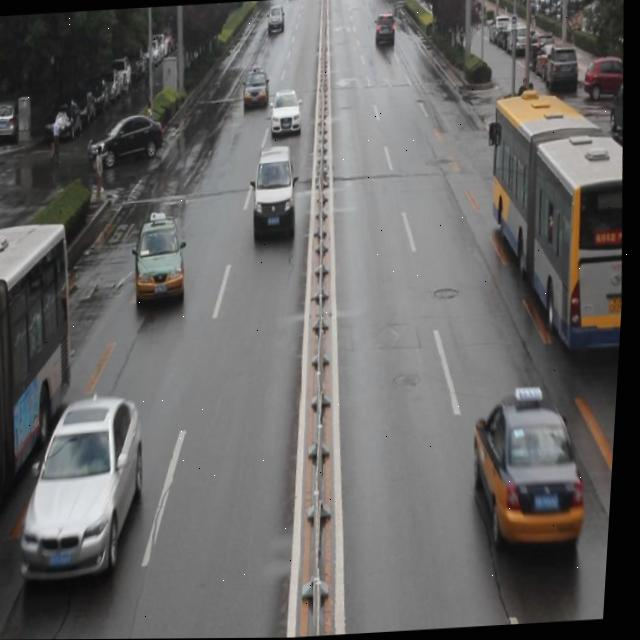car: (24, 397, 156, 579), (467, 375, 595, 555), (133, 217, 194, 308), (88, 115, 168, 167), (268, 88, 305, 138), (241, 69, 274, 113)
truck: (250, 147, 303, 236)
van: (474, 90, 636, 364), (0, 223, 92, 541)
